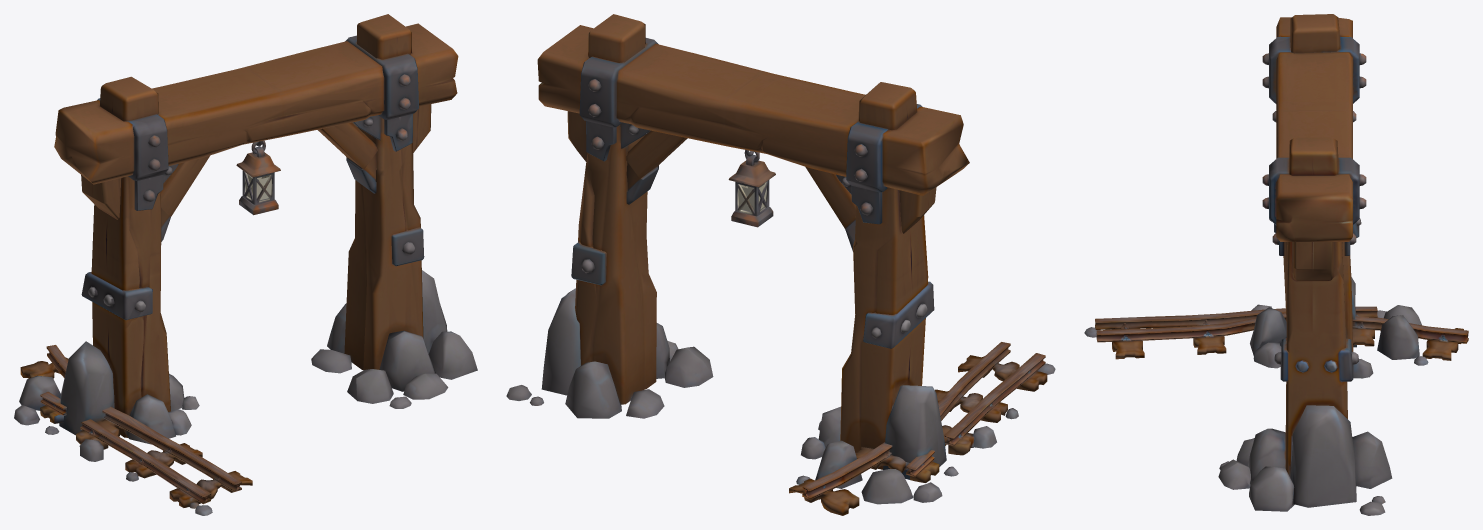
Rendered from tripo_convert_9e42a5bc-50b9-476f-947f-04bcef3ae67f.fbx.
The picture shows the model from 3 angles, left to right: view 1: azimuth 30°, elevation 25°; view 2: azimuth 150°, elevation 25°; view 3: azimuth 270°, elevation 25°; orthographic projection. The views are drawn at different scales.
Parts seen in each view (by area): view 1: tripo_node_9e42a5bc; view 2: tripo_node_9e42a5bc; view 3: tripo_node_9e42a5bc.
Boxes of the visible parts, x1,y1,x2,y2 form: tripo_node_9e42a5bc: (14,14,477,515); tripo_node_9e42a5bc: (506,14,1055,515); tripo_node_9e42a5bc: (1084,14,1468,515).
Size of the model in its own units: 99.95 by 82.57 by 80.22.
1 material, 1 textured.
